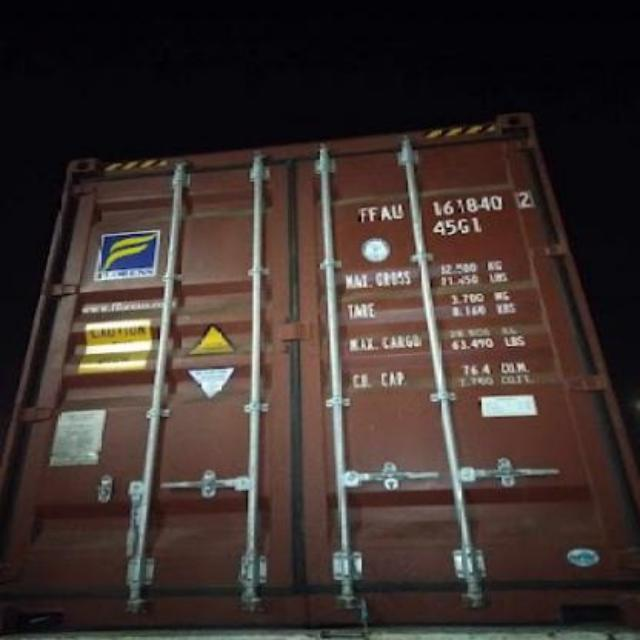0: (488, 189, 504, 213)
1: (450, 190, 466, 214), (426, 195, 442, 218)
2: (514, 188, 534, 212)
4: (476, 188, 489, 212)
6: (441, 193, 454, 217)
8: (462, 192, 478, 216)
A: (376, 196, 392, 228)
F: (354, 200, 368, 227), (366, 200, 378, 222)
U: (390, 200, 406, 224)
